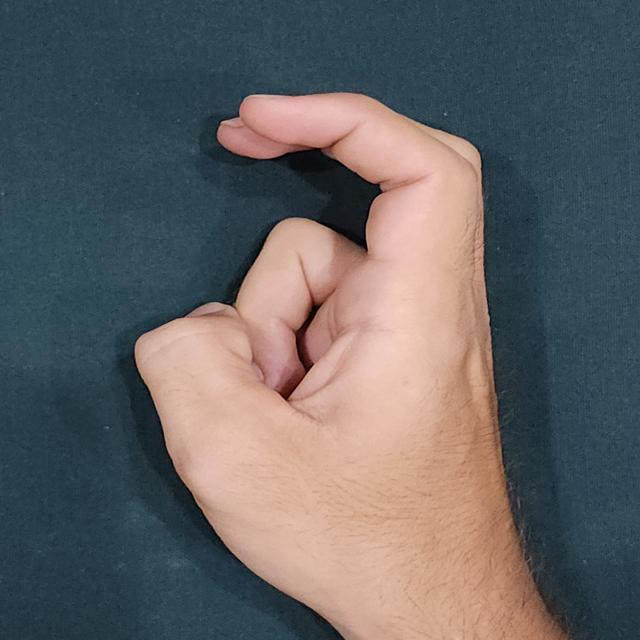ا: (121, 85, 574, 628)
